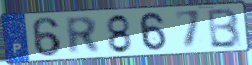6: (31, 16, 65, 58), (138, 10, 170, 53)
7: (173, 10, 202, 51)
8: (104, 12, 134, 56)
B: (207, 7, 243, 50)
R: (63, 15, 103, 56)
